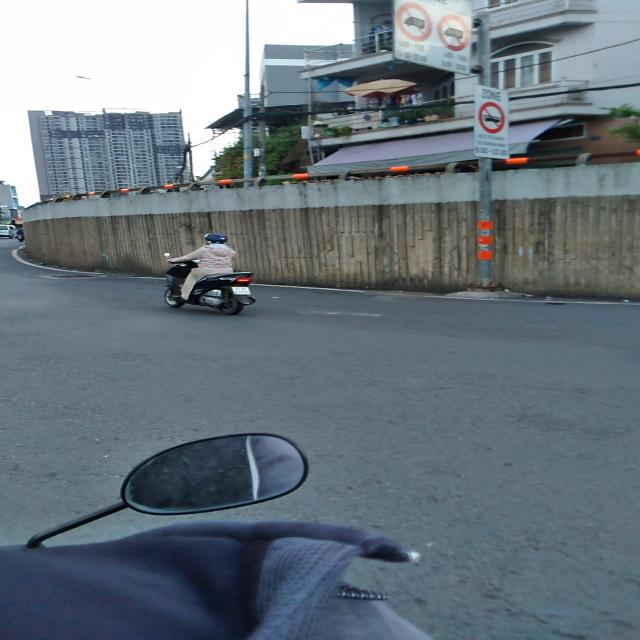Chieu cao toi da: (436, 9, 468, 54), (397, 2, 432, 43), (478, 100, 502, 137)
